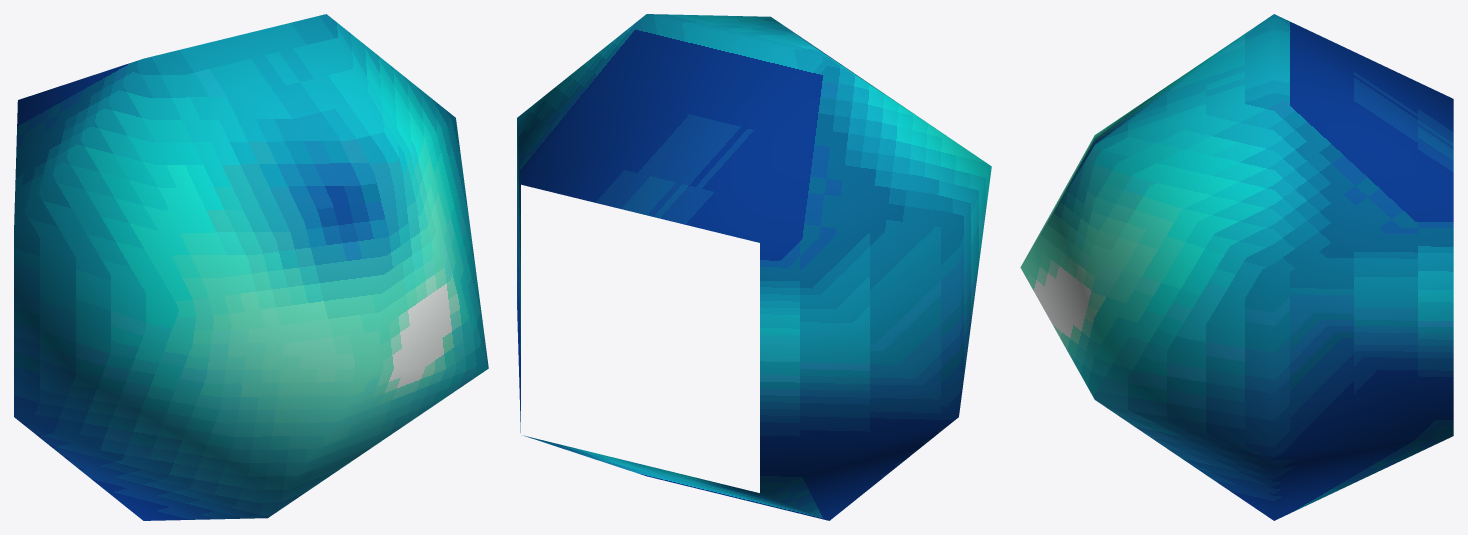
File: billboard_fruit_cool_01.glb
The picture shows the model from 3 angles, left to right: view 1: azimuth 30°, elevation 25°; view 2: azimuth 150°, elevation 25°; view 3: azimuth 270°, elevation 25°; orthographic projection. The views are drawn at different scales.
Parts seen in each view (by area): view 1: town.billboard_fruit_cool_01-Mesh[0]; view 2: town.billboard_fruit_cool_01-Mesh[0]; view 3: town.billboard_fruit_cool_01-Mesh[0].
Boxes of the visible parts, x1,y1,x2,y2 form: town.billboard_fruit_cool_01-Mesh[0]: (14,14,488,520); town.billboard_fruit_cool_01-Mesh[0]: (517,14,991,520); town.billboard_fruit_cool_01-Mesh[0]: (1020,14,1453,520).
Size of the model in its own units: 0.5799 by 0.5799 by 0.5358.
1 material, 1 textured.
